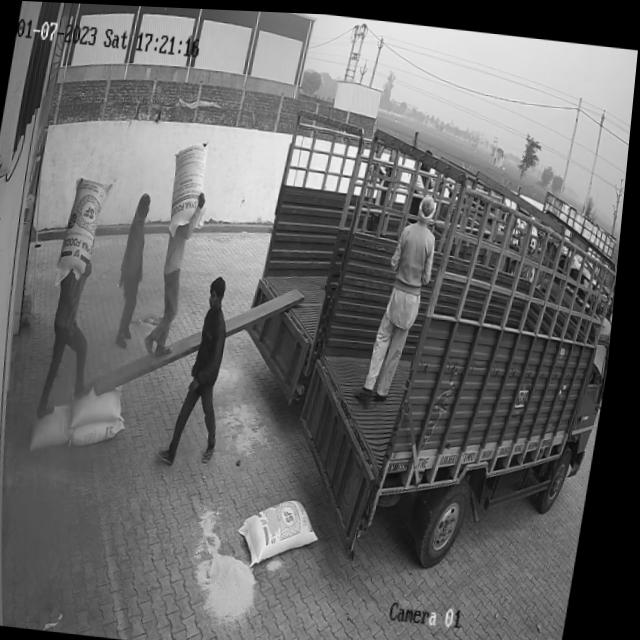sack: (243, 490, 333, 570), (59, 175, 116, 292), (166, 136, 215, 238), (76, 379, 133, 431), (36, 400, 83, 454), (79, 410, 134, 448)
